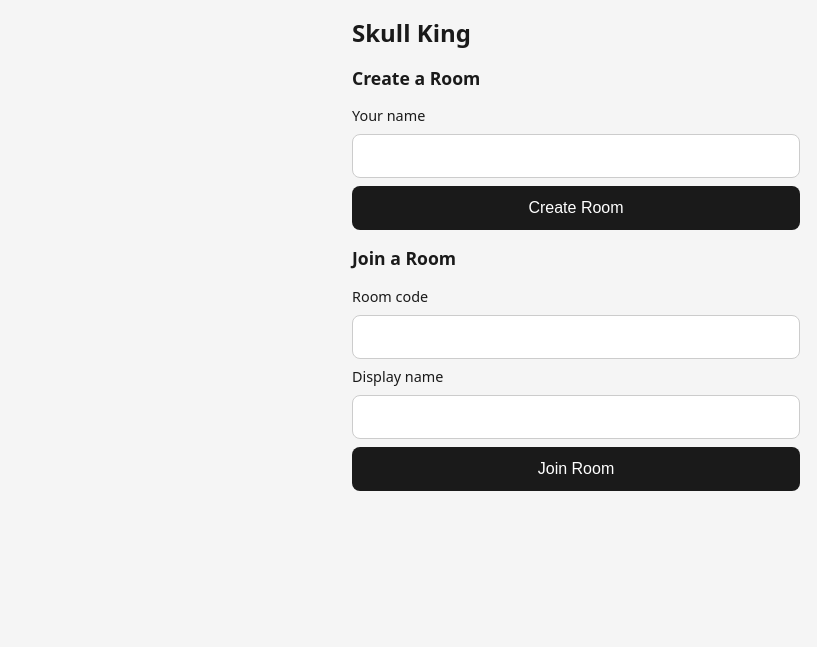
Scenario: App › only shows the pending-ability status, not the resolution form, to Players it isn't for
Type "ABCD" into the field labelled "Room code" at (576, 337), box [352,315,800,359]
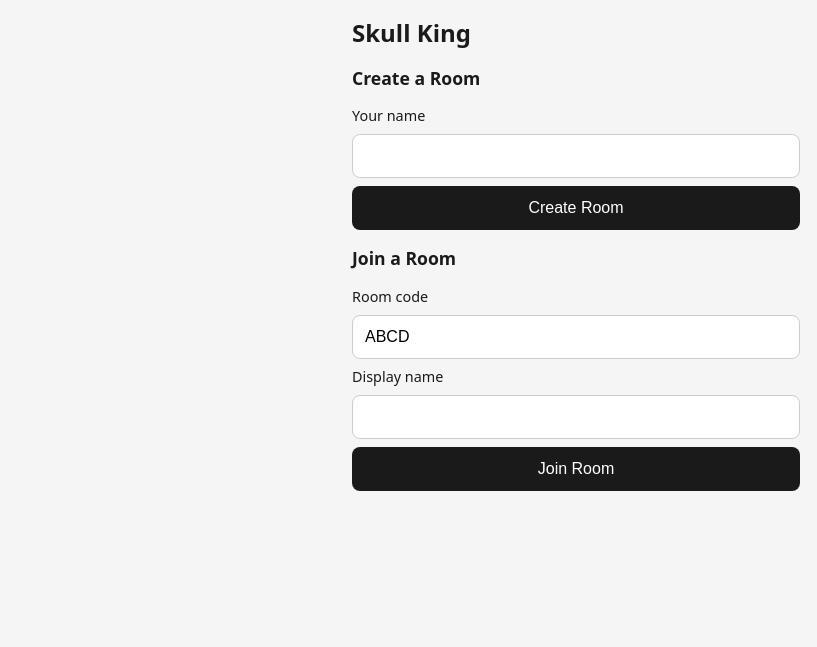
Type "Bob" into the field labelled "Display name" at (576, 417), box [352,395,800,439]
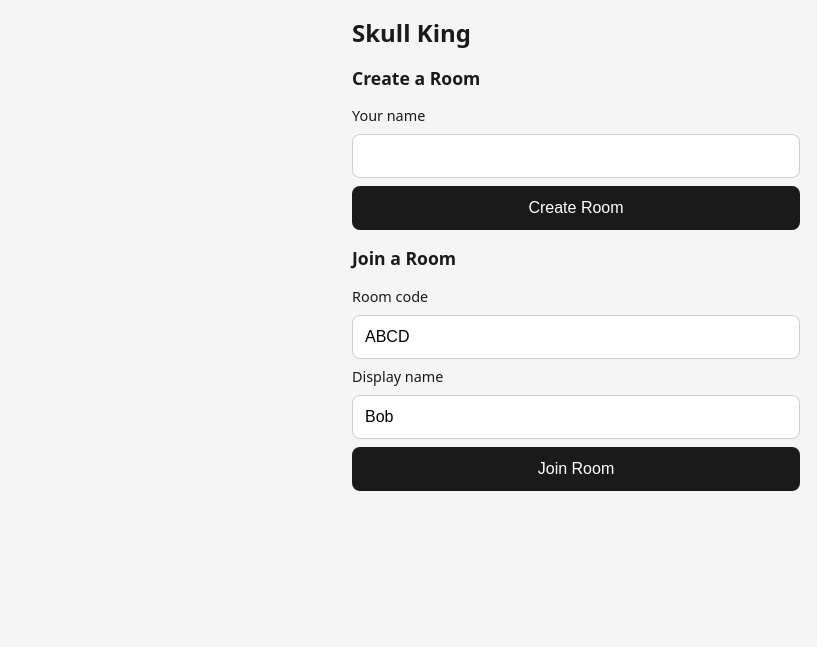
Click the button "Join Room" at (576, 469), box [352,447,800,491]
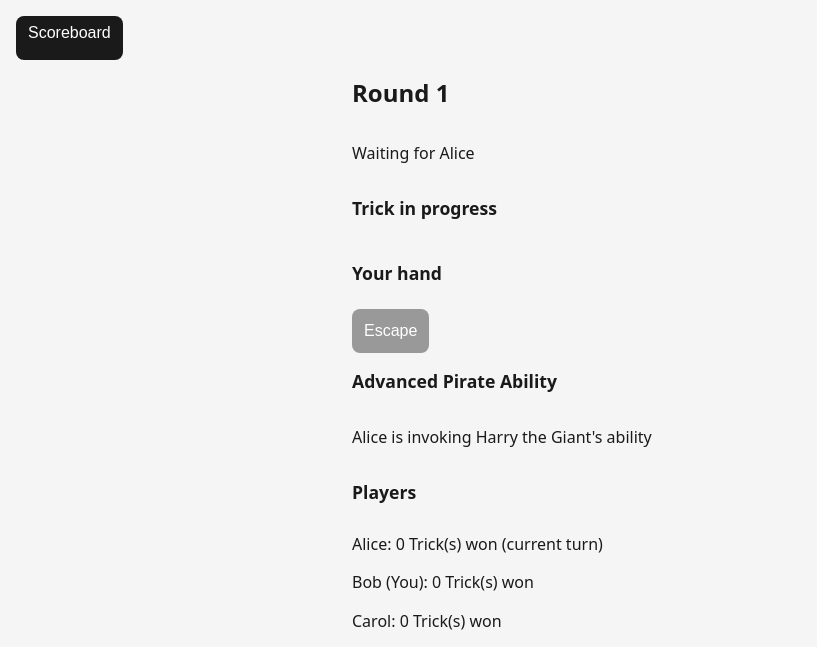
Expected: the text "Alice is invoking Harry the Giant's ability" is shown, [352,426,652,448]
